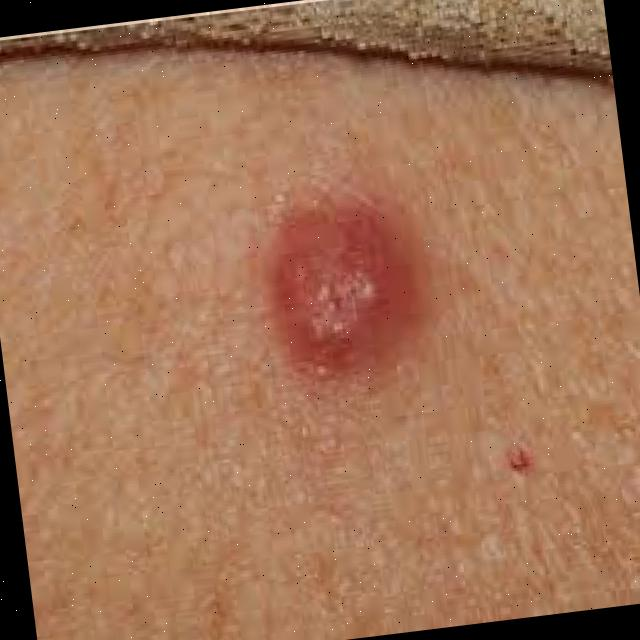kene: (249, 189, 435, 376)
